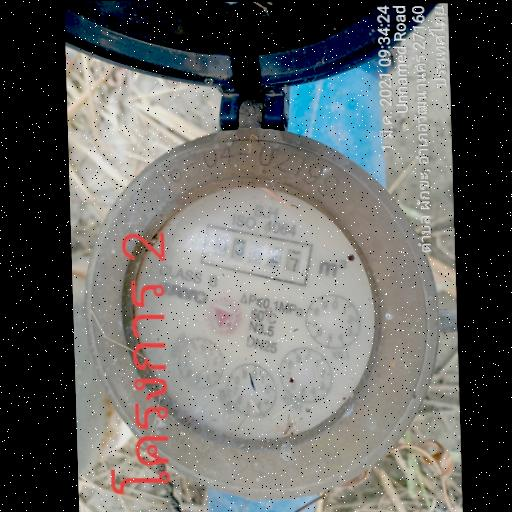0: (212, 234, 231, 258)
2: (265, 245, 284, 269)
3: (230, 237, 248, 261)
6: (247, 241, 266, 265)
7: (284, 249, 303, 273)
border_water_meter_number: (198, 221, 315, 287)
